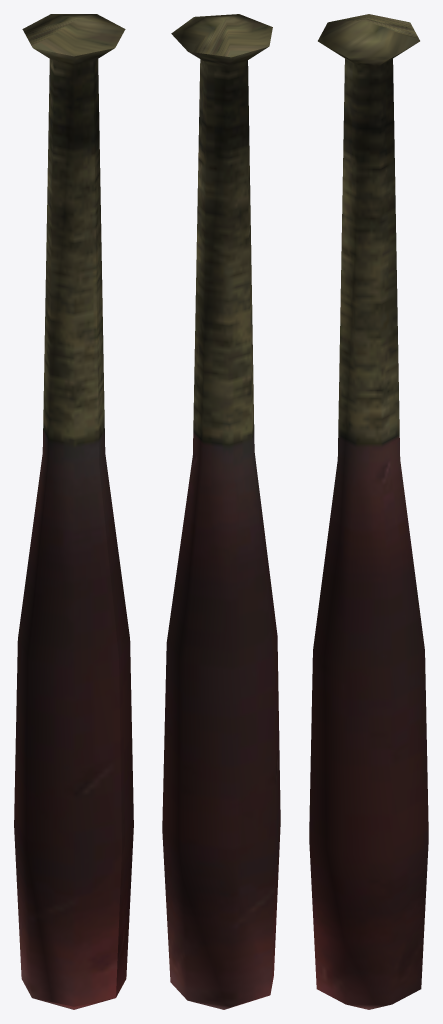
File: Baseball Bat.obj
3 renders of one model, left to right at view 1: azimuth 90°, elevation 25°; view 2: azimuth 150°, elevation 25°; view 3: azimuth 270°, elevation 25°, orthographic.
Visible parts, largest first — view 1: baseballbat.baseballbat.smd.mesh_0; view 2: baseballbat.baseballbat.smd.mesh_0; view 3: baseballbat.baseballbat.smd.mesh_0.
Part boxes in pixels (x1,y1,x2,y2): baseballbat.baseballbat.smd.mesh_0: [14, 14, 133, 1009]; baseballbat.baseballbat.smd.mesh_0: [162, 14, 280, 1009]; baseballbat.baseballbat.smd.mesh_0: [309, 14, 428, 1009].
Size of the model in its own units: 4.97 by 46.5 by 5.1.
Materials: 1 (1 with a texture image).
